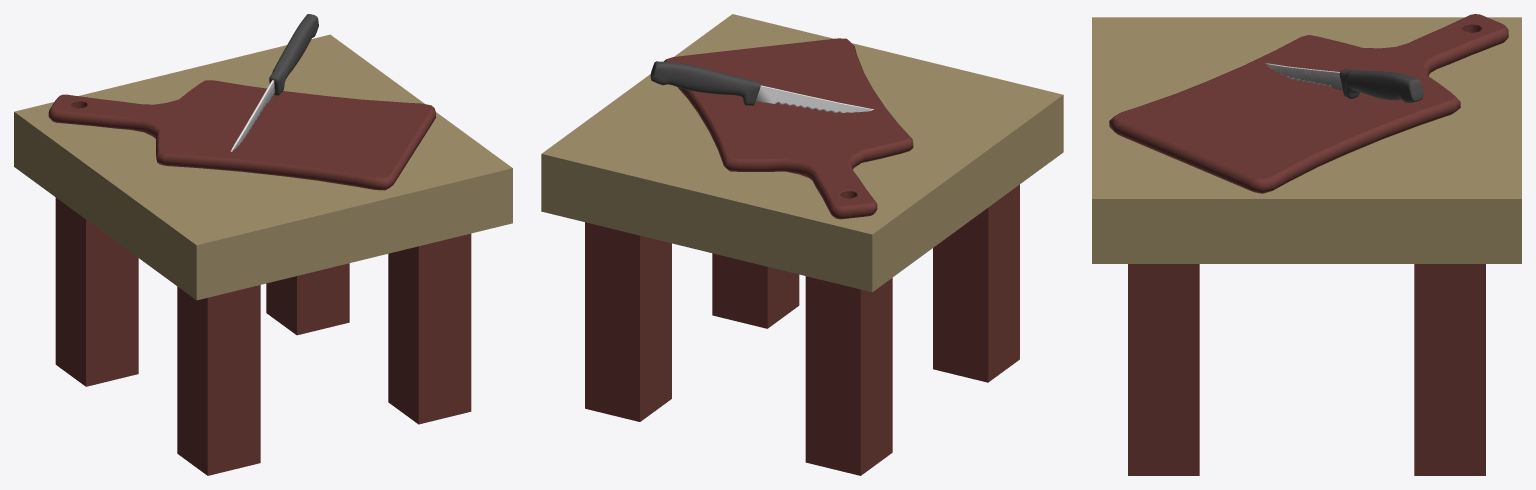
File: choppingstation.fbx
3 renders of one model, left to right at view 1: azimuth 30°, elevation 25°; view 2: azimuth 150°, elevation 25°; view 3: azimuth 270°, elevation 25°, orthographic. The views are drawn at different scales.
Parts seen in each view (by area): view 1: tabletop, choppingboard, leg4, leg3, leg1, leg2, KnifeHandle, Knife; view 2: tabletop, choppingboard, leg1, leg2, leg4, leg3, KnifeHandle, Knife; view 3: tabletop, choppingboard, leg3, leg2, KnifeHandle, Knife.
Part boxes in pixels (x1,y1,x2,y2): tabletop: (14,34,512,300); choppingboard: (48,80,435,190); leg4: (177,285,260,475); leg3: (388,233,471,424); leg1: (55,197,138,386); leg2: (266,263,349,335); KnifeHandle: (269,14,318,95); Knife: (230,80,274,151); tabletop: (541,14,1063,292); choppingboard: (664,38,913,219); leg1: (805,276,892,475); leg2: (585,222,671,421); leg4: (933,184,1019,382); leg3: (712,253,799,328); KnifeHandle: (650,61,760,105); Knife: (756,85,873,113); tabletop: (1092,17,1521,263); choppingboard: (1109,14,1508,193); leg3: (1128,264,1199,475); leg2: (1414,264,1485,475); KnifeHandle: (1339,69,1423,102); Knife: (1265,63,1342,90).
Bounding box in the file's own units: 30 × 28.79 × 30.
